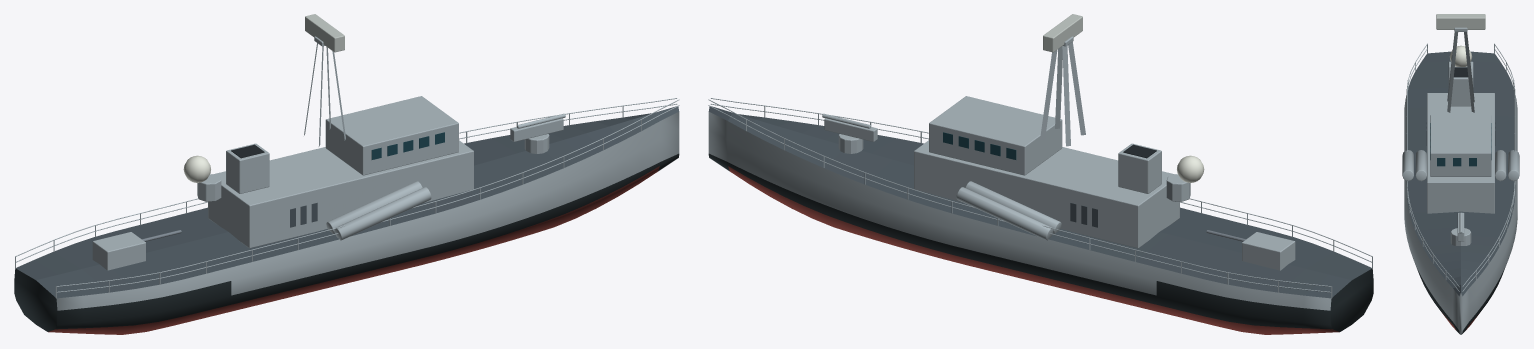
The model's file is cw90_nanuchka.glb.
The picture shows the model from 3 angles, left to right: view 1: azimuth 30°, elevation 25°; view 2: azimuth 150°, elevation 25°; view 3: azimuth 270°, elevation 25°; orthographic projection. The views are drawn at different scales.
Visible parts, largest first — view 1: cw90_nanuchka; view 2: cw90_nanuchka; view 3: cw90_nanuchka.
Boxes of the visible parts, x1,y1,x2,y2 form: cw90_nanuchka: (14,14,679,334); cw90_nanuchka: (708,14,1373,334); cw90_nanuchka: (1402,14,1519,334).
Size of the model in its own units: 10 by 3.67 by 1.93.
